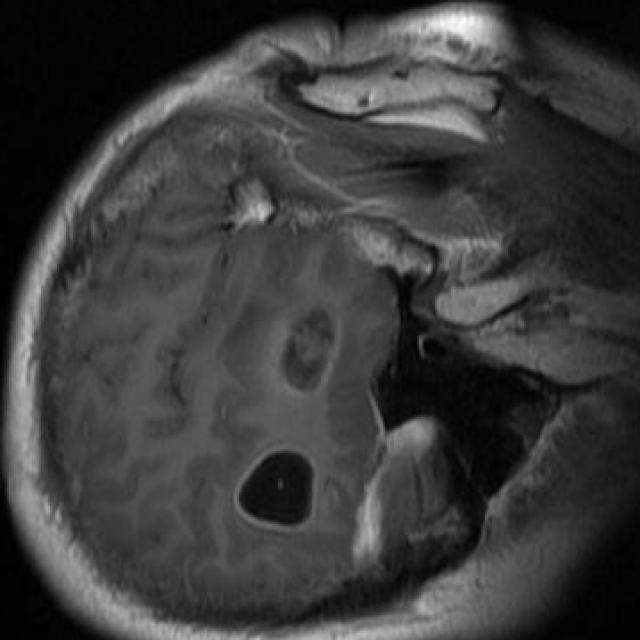glioma: (235, 301, 344, 528)
